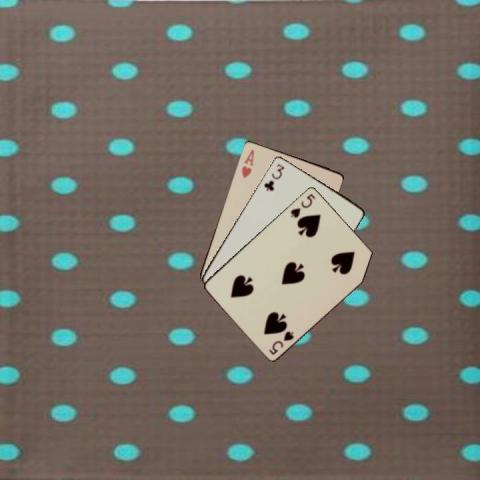3c: (261, 161, 285, 192)
5s: (266, 327, 295, 356), (287, 191, 317, 219)
Ah: (239, 146, 255, 179)
